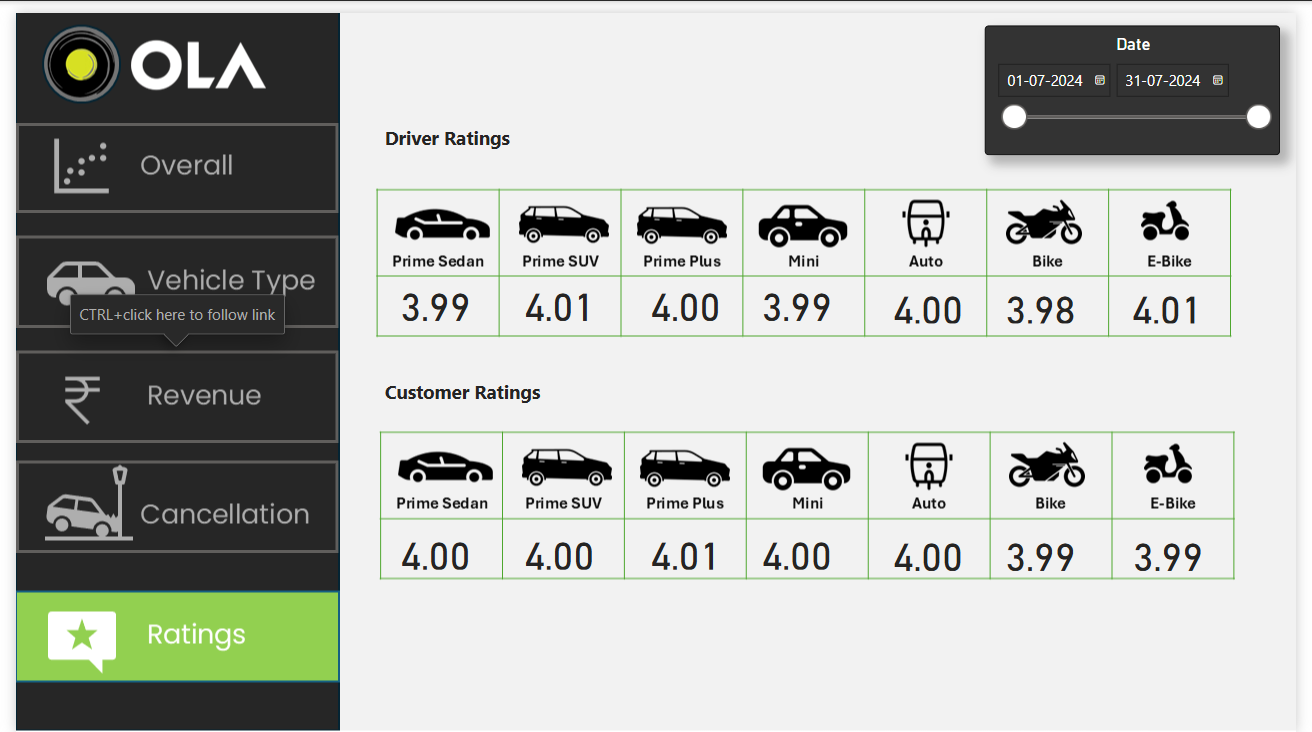

The page's visual inventory and layout, read from the dashboard file:
{"tool":"powerbi","page":{"name":"Ratings","canvas":[1280,720],"ordinal":4},"visuals":[{"type":"actionButton","box":[0,222.5,322.5,92.5],"z":0},{"type":"actionButton","box":[0,337.5,322.5,92.5],"z":1000},{"type":"actionButton","box":[0,447.5,322.5,92.5],"z":2000},{"type":"actionButton","box":[0,110,322.5,90],"z":3000},{"type":"card","fields":{"Values":["Avg(July.Driver_Ratings)"]},"box":[364.1,269.2,111.7,44.4],"z":4000},{"type":"card","fields":{"Values":["Avg(July.Driver_Ratings)"]},"box":[488,269.2,111.7,44.4],"z":5000},{"type":"card","fields":{"Values":["Avg(July.Driver_Ratings)"]},"box":[613.4,269.2,111.7,44.4],"z":6000},{"type":"card","fields":{"Values":["Avg(July.Driver_Ratings)"]},"box":[725.1,269.2,111.7,44.4],"z":7000},{"type":"card","fields":{"Values":["Avg(July.Driver_Ratings)"]},"box":[856.6,270.7,111.7,44.4],"z":8000},{"type":"card","fields":{"Values":["Avg(July.Driver_Ratings)"]},"box":[968.3,270.7,111.7,44.4],"z":9000},{"type":"card","fields":{"Values":["Avg(July.Driver_Ratings)"]},"box":[1095.2,270.7,111.7,44.4],"z":10000},{"type":"card","fields":{"Values":["Avg(July.Customer_Rating)"]},"box":[364.1,517,111.7,44.4],"z":11000},{"type":"textbox","box":[364.1,107.1,348.8,47.4],"z":12000},{"type":"textbox","box":[364.1,361,348.8,47.4],"z":13000},{"type":"card","fields":{"Values":["Avg(July.Customer_Rating)"]},"box":[488,517,111.7,44.4],"z":14000},{"type":"card","fields":{"Values":["Avg(July.Customer_Rating)"]},"box":[613.4,517,111.7,44.4],"z":15000},{"type":"card","fields":{"Values":["Avg(July.Customer_Rating)"]},"box":[725.1,517,111.7,44.4],"z":16000},{"type":"card","fields":{"Values":["Avg(July.Customer_Rating)"]},"box":[856.6,518.5,111.7,44.4],"z":17000},{"type":"card","fields":{"Values":["Avg(July.Customer_Rating)"]},"box":[968.3,518.5,111.7,44.4],"z":18000},{"type":"card","fields":{"Values":["Avg(July.Customer_Rating)"]},"box":[1096.8,518.5,111.7,44.4],"z":19000},{"type":"slicer","title":"Date","fields":{"Values":["July.Date"]},"box":[968.2,12.7,295.5,129.9],"z":20000}]}

Visuals, with their boxes in screenshot pixels (x1, y1, x2, y2), scaled from the page's 1280x720 canvas onto the 1312x732 screenshot:
actionButton: (0,226,331,320)
actionButton: (0,343,331,437)
actionButton: (0,455,331,549)
actionButton: (0,112,331,203)
card - Avg(July.Driver_Ratings): (373,274,488,319)
card - Avg(July.Driver_Ratings): (500,274,615,319)
card - Avg(July.Driver_Ratings): (629,274,743,319)
card - Avg(July.Driver_Ratings): (743,274,858,319)
card - Avg(July.Driver_Ratings): (878,275,993,320)
card - Avg(July.Driver_Ratings): (993,275,1107,320)
card - Avg(July.Driver_Ratings): (1123,275,1237,320)
card - Avg(July.Customer_Rating): (373,526,488,571)
textbox: (373,109,731,157)
textbox: (373,367,731,415)
card - Avg(July.Customer_Rating): (500,526,615,571)
card - Avg(July.Customer_Rating): (629,526,743,571)
card - Avg(July.Customer_Rating): (743,526,858,571)
card - Avg(July.Customer_Rating): (878,527,993,572)
card - Avg(July.Customer_Rating): (993,527,1107,572)
card - Avg(July.Customer_Rating): (1124,527,1239,572)
"Date" slicer: (992,13,1295,145)
